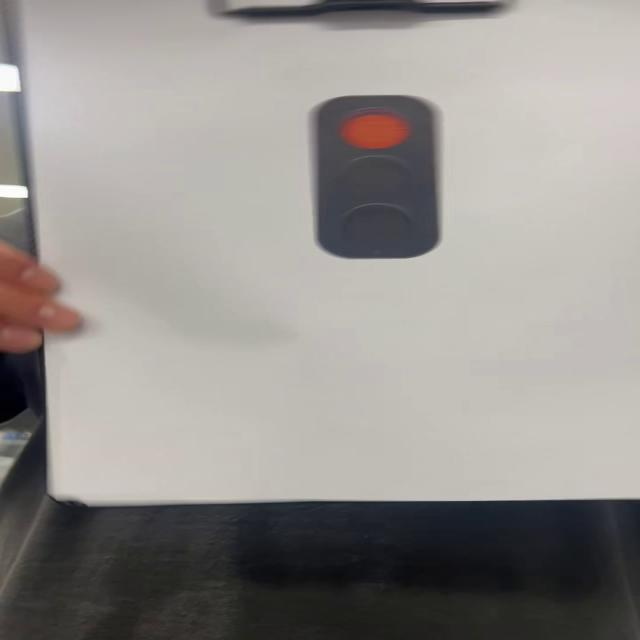red: (306, 96, 457, 261)
